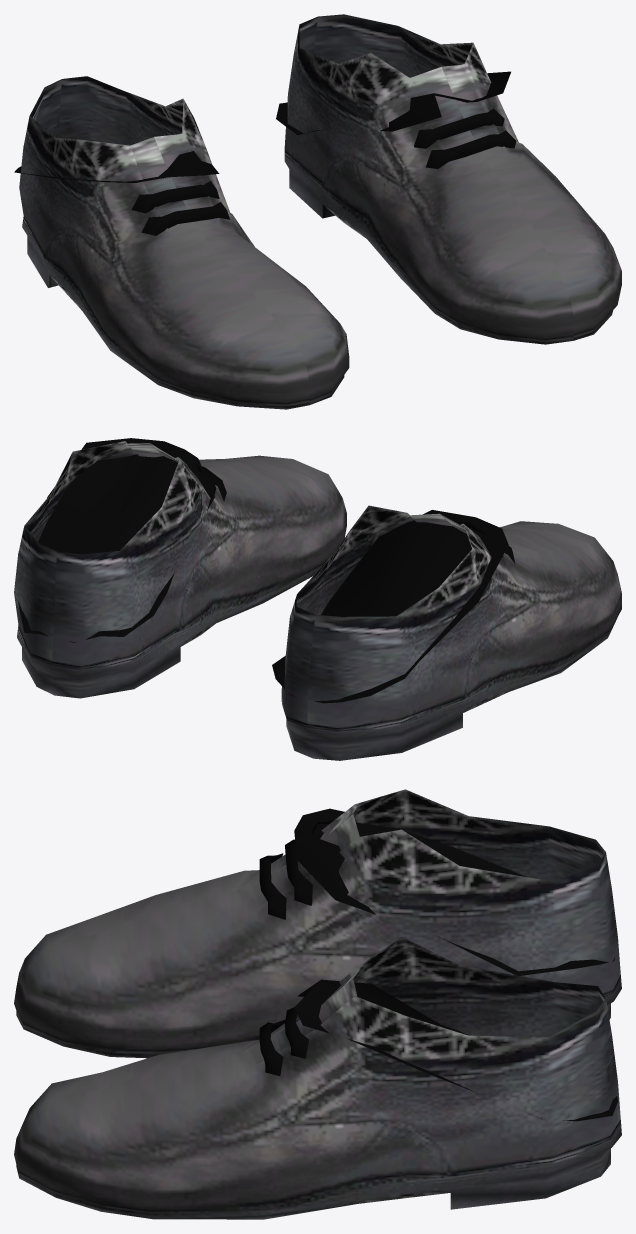
The model's file is ShoesShape.obj.
3 renders of one model, top to bottom at view 1: azimuth 30°, elevation 25°; view 2: azimuth 150°, elevation 25°; view 3: azimuth 270°, elevation 25°, orthographic. The views are drawn at different scales.
Visible parts, largest first — view 1: Shoes Brad_Skin CharacterRoot; view 2: Shoes Brad_Skin CharacterRoot; view 3: Shoes Brad_Skin CharacterRoot.
Part boxes in pixels (box(x1,y1,x2,y2)): Shoes Brad_Skin CharacterRoot: box(14, 14, 621, 409); Shoes Brad_Skin CharacterRoot: box(14, 438, 621, 760); Shoes Brad_Skin CharacterRoot: box(14, 789, 621, 1219).
Bounding box in the file's own units: 36.45 × 13.46 × 35.73.
Materials: 2 (1 with a texture image).
